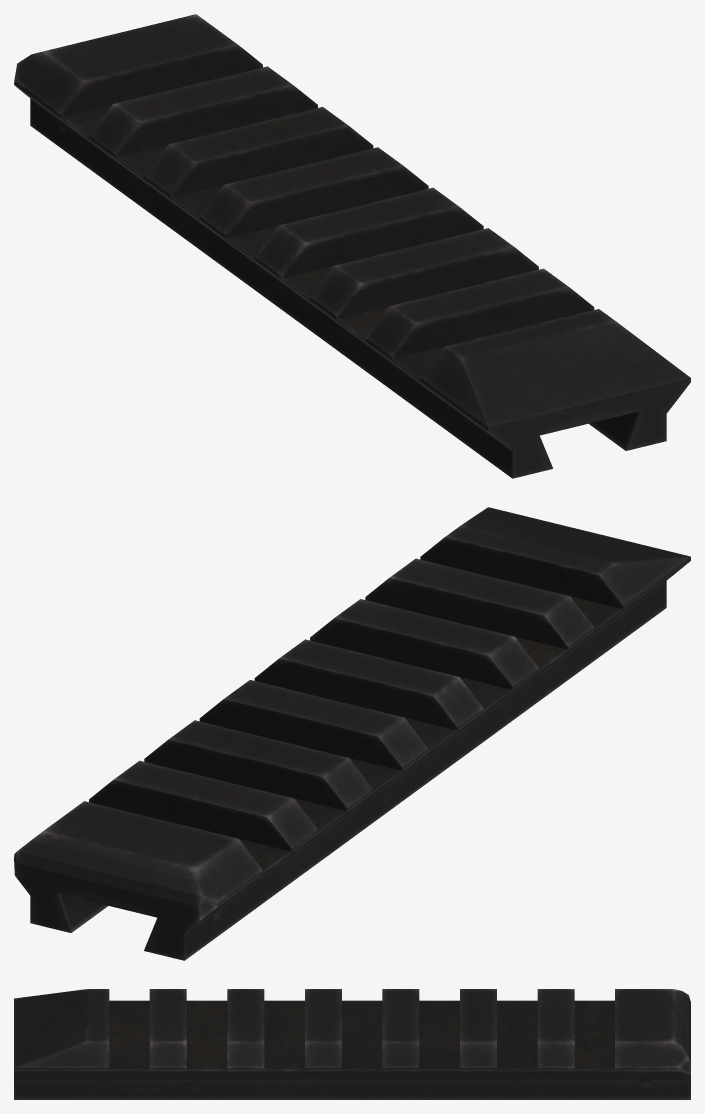
3 views of the same model, one above another, from view 1: azimuth 30°, elevation 25°; view 2: azimuth 150°, elevation 25°; view 3: azimuth 270°, elevation 25° (orthographic). The views are drawn at different scales.
Visible parts, largest first — view 1: TW_5fbb976df9986c4cff3fe5f2_PZ_Import; view 2: TW_5fbb976df9986c4cff3fe5f2_PZ_Import; view 3: TW_5fbb976df9986c4cff3fe5f2_PZ_Import.
Part boxes in pixels (x1,y1,x2,y2): TW_5fbb976df9986c4cff3fe5f2_PZ_Import: (14, 14, 690, 478); TW_5fbb976df9986c4cff3fe5f2_PZ_Import: (14, 507, 690, 960); TW_5fbb976df9986c4cff3fe5f2_PZ_Import: (14, 989, 690, 1099).
Size of the model in its own units: 0.0123 by 0.0505 by 0.00477.
1 material, 1 textured.
